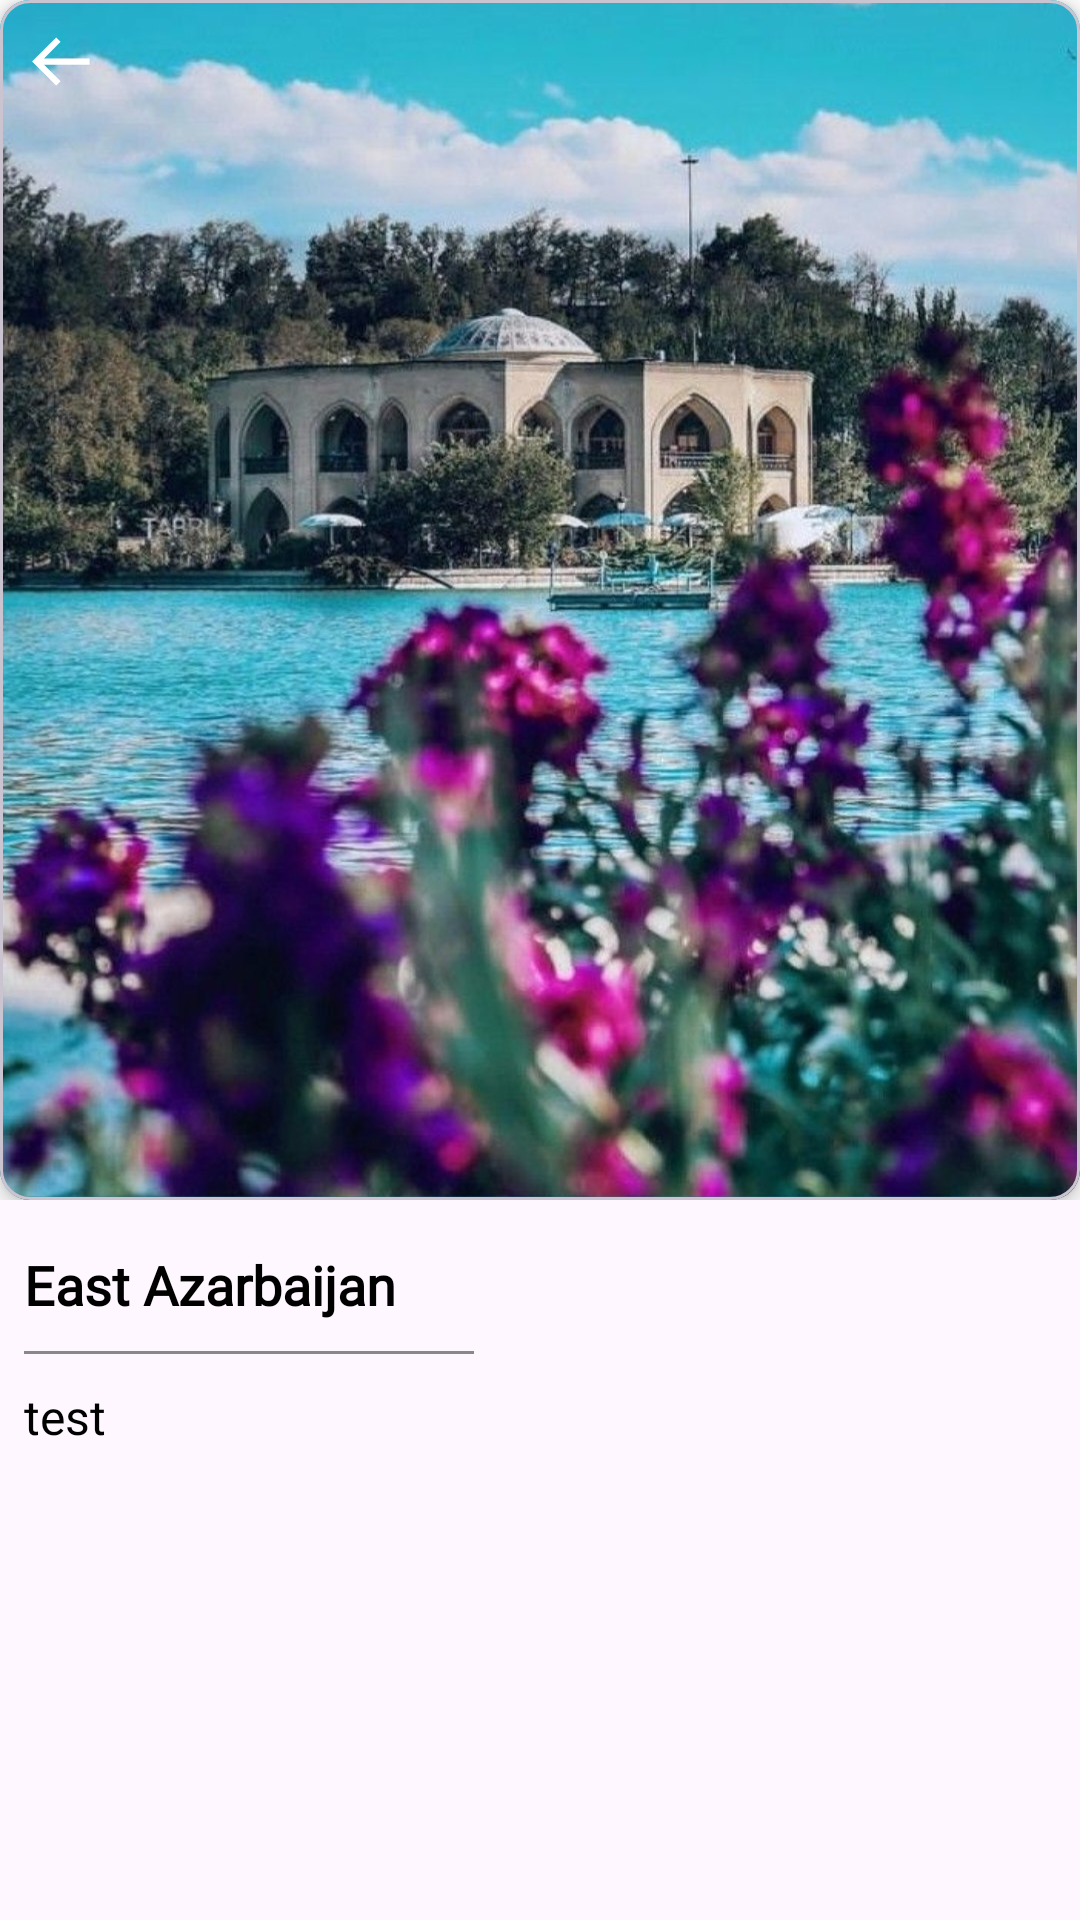

Point at icon controls on the screen. Image size 1080×1920, points as (x=x, y=y).
back: (x=61, y=61)
